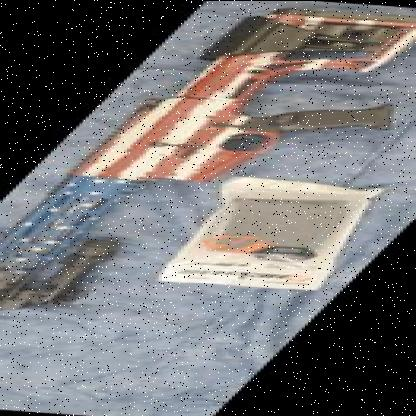rifle: (0, 1, 416, 393)
